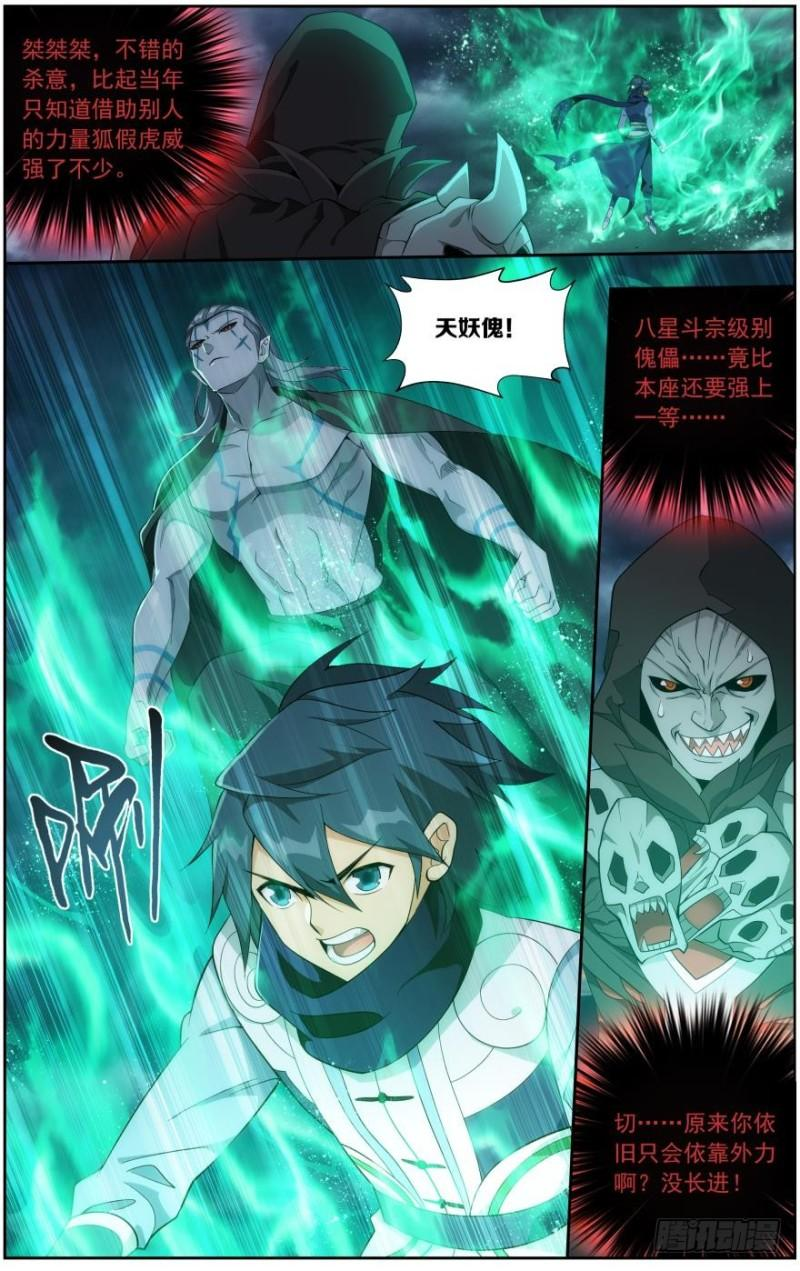boxBad: (3, 5, 267, 245), (570, 1000, 789, 1255), (603, 284, 795, 526)
boxBomb: (381, 266, 570, 398)
minBox: (3, 257, 792, 1258), (561, 275, 792, 1258), (3, 5, 792, 254)
